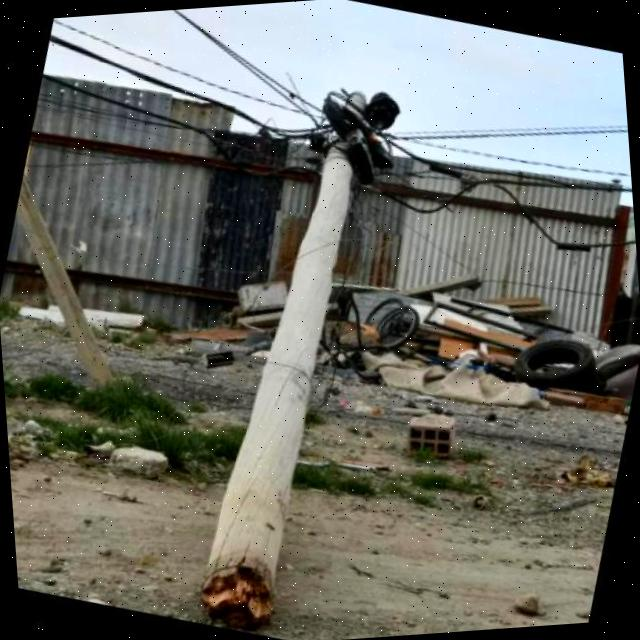Broken Pole: (209, 84, 404, 627)
